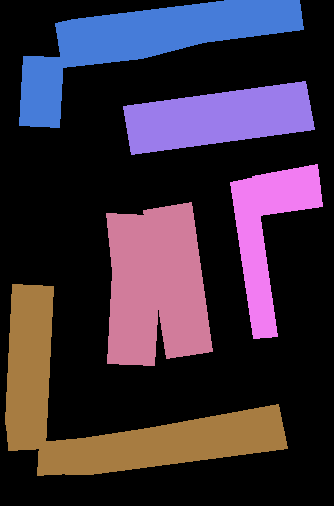parkingspot: (37, 404, 287, 475), (55, 0, 303, 67), (123, 81, 314, 154), (143, 202, 212, 358), (5, 284, 53, 450), (106, 213, 158, 365), (230, 177, 277, 338), (252, 164, 322, 215), (19, 56, 63, 127)
